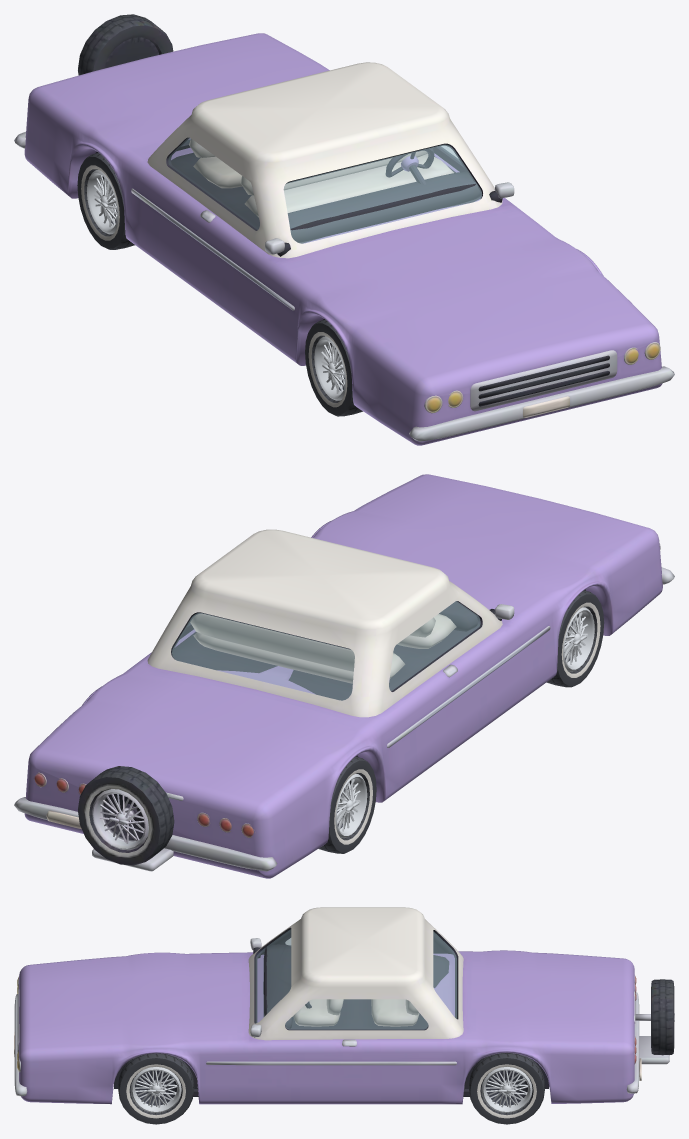
Rendered from lowrider.glb.
3 views of the same model, one above another, from view 1: azimuth 30°, elevation 25°; view 2: azimuth 150°, elevation 25°; view 3: azimuth 270°, elevation 25° (orthographic). The views are drawn at different scales.
Parts seen in each view (by area): view 1: lowrider_body, lowrider_windows, lowrider_wheel_rr, lowrider_wheel_fr; view 2: lowrider_body, lowrider_windows, lowrider_wheel_rr, lowrider_wheel_fr; view 3: lowrider_body, lowrider_windows, lowrider_wheel_rl, lowrider_wheel_fl.
Boxes of the visible parts, x1,y1,x2,y2 form: lowrider_body: [14, 14, 674, 445]; lowrider_windows: [168, 138, 481, 243]; lowrider_wheel_rr: [77, 152, 134, 249]; lowrider_wheel_fr: [305, 319, 362, 416]; lowrider_body: [14, 474, 674, 878]; lowrider_windows: [172, 601, 480, 700]; lowrider_wheel_rr: [318, 756, 376, 853]; lowrider_wheel_fr: [546, 590, 604, 687]; lowrider_body: [14, 907, 674, 1104]; lowrider_windows: [256, 929, 456, 1029]; lowrider_wheel_rl: [468, 1053, 545, 1124]; lowrider_wheel_fl: [118, 1053, 194, 1124].
Bounding box in the file's own units: 2.02 × 1.3 × 5.69.
6 materials, 2 textured.
